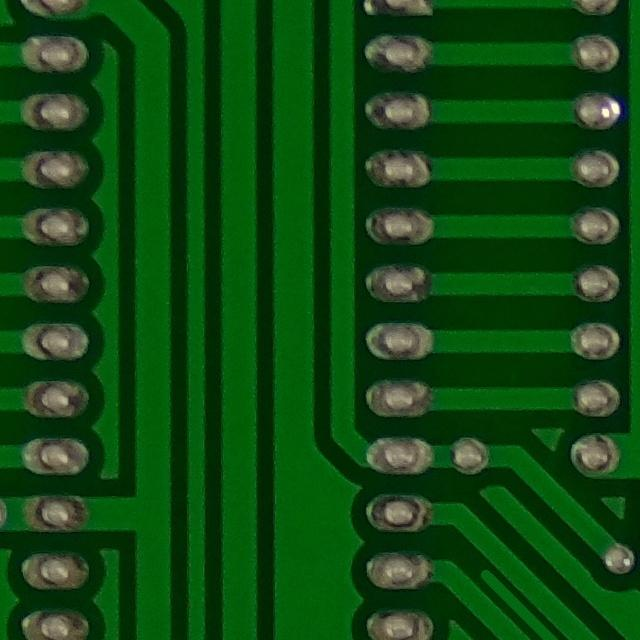spurious_copper: (464, 559, 569, 640)
